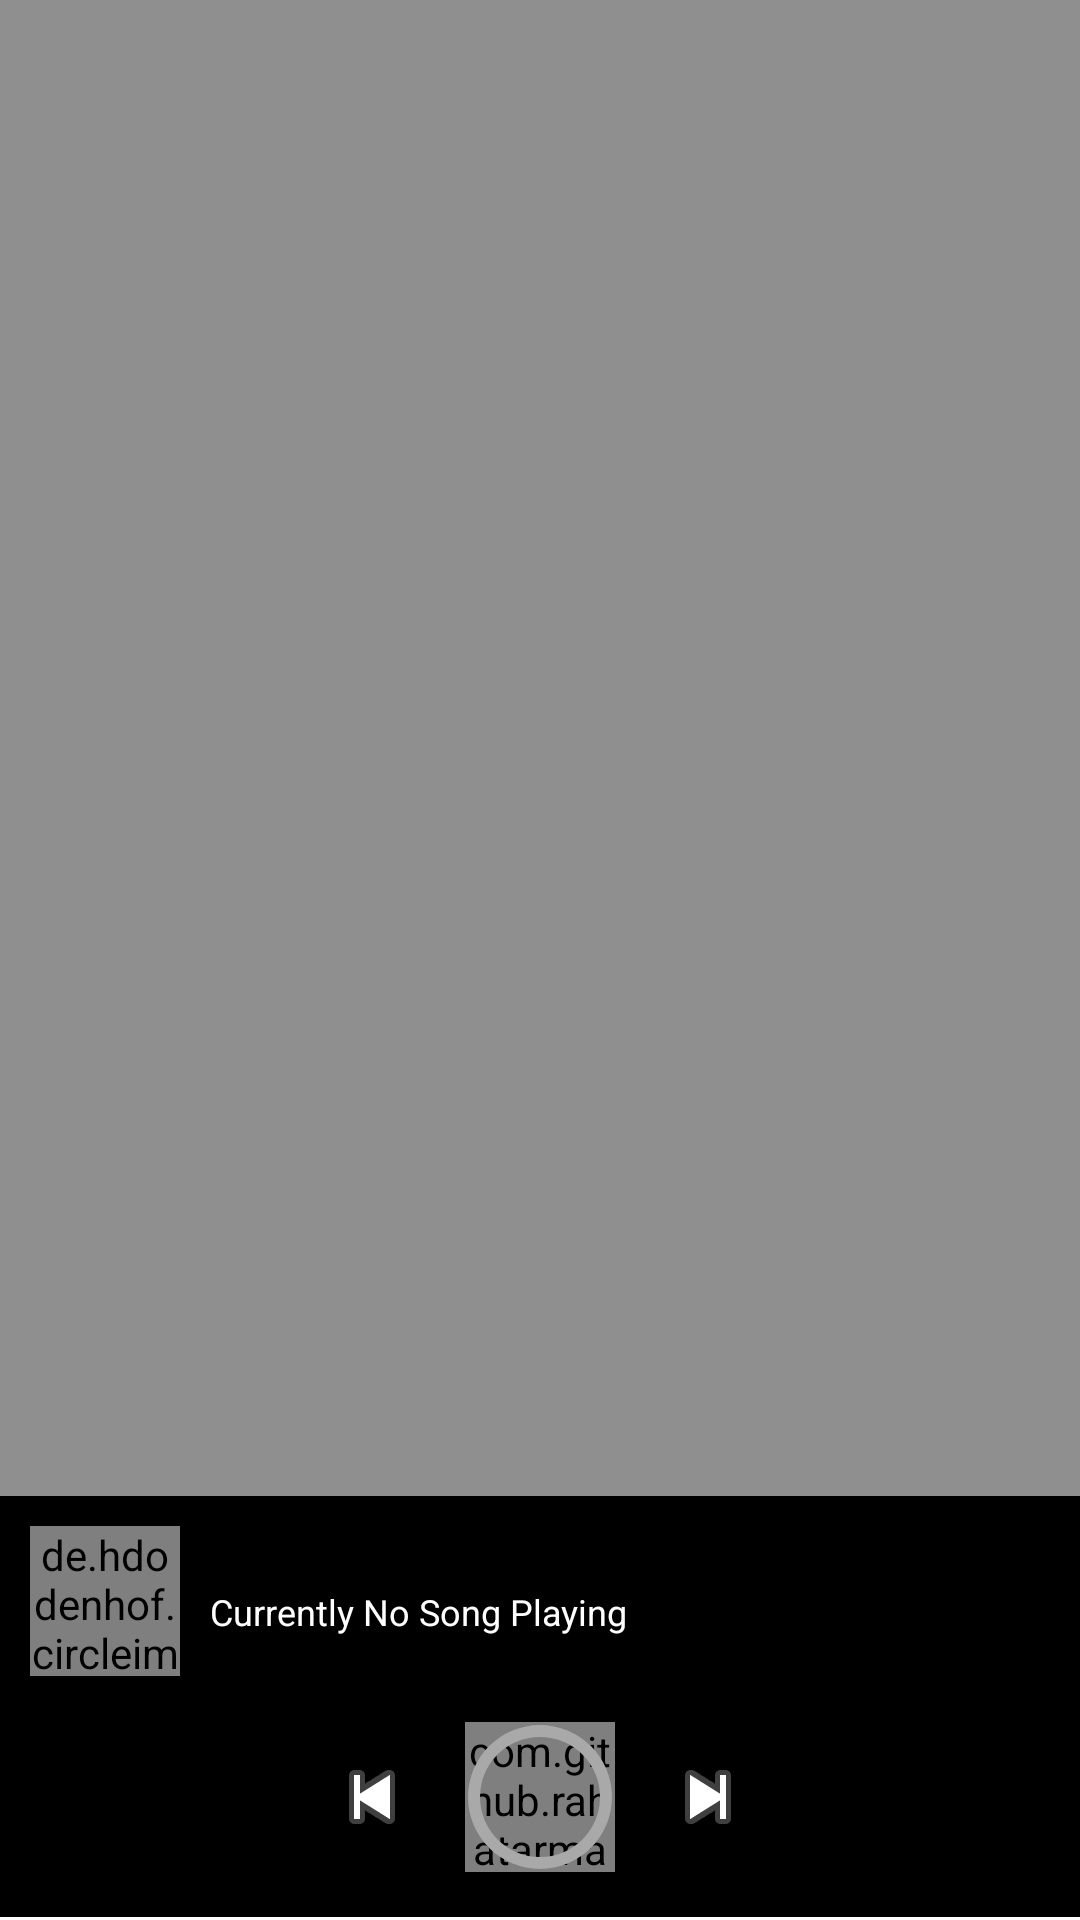

Icons on this 1080 × 1920 Android screen, each with its box as (x1=x1, y1=y1, x2=x2, y2=y2):
next: (x1=685, y1=1770, x2=731, y2=1824)
previous: (x1=349, y1=1770, x2=395, y2=1824)
